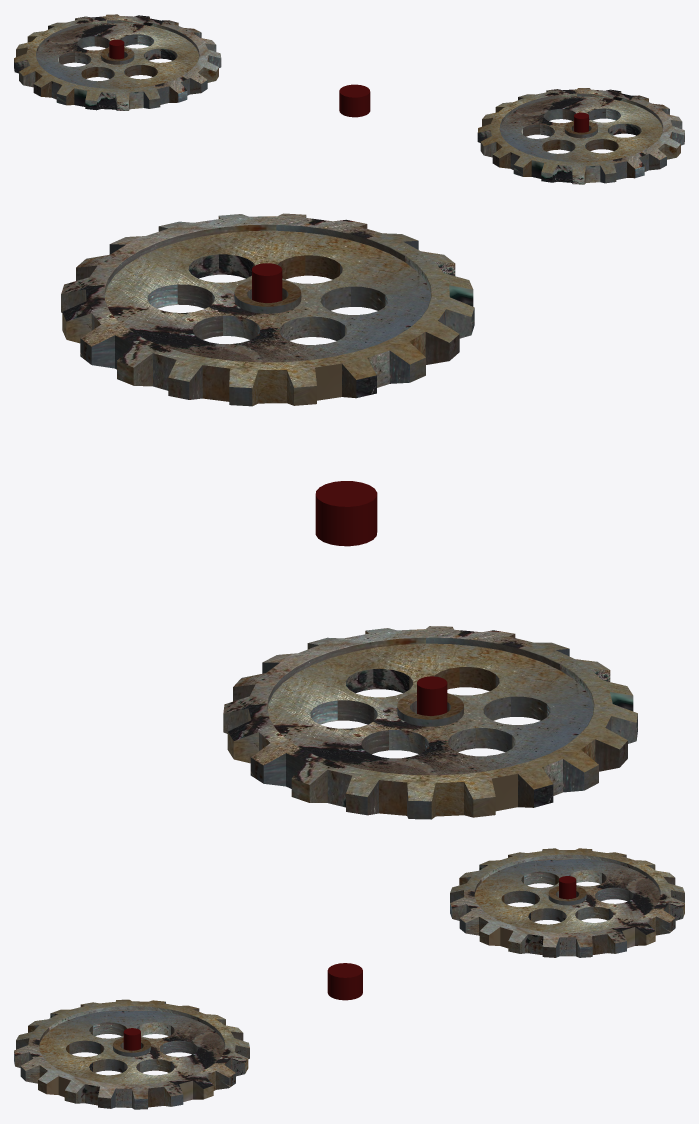
File: behindWall.fbx
The picture shows the model from 3 angles, top to bottom: view 1: azimuth 30°, elevation 25°; view 2: azimuth 150°, elevation 25°; view 3: azimuth 270°, elevation 25°; orthographic projection. The views are drawn at different scales.
Visible parts, largest first — view 1: pasted__pasted__pasted__pCylinder5, pasted__pasted__pCylinder5, pCylinder1, pasted__pasted__pCylinder1, pasted__pCylinder1; view 2: pasted__pasted__pasted__pCylinder5, pasted__pasted__pCylinder5, pCylinder1, pasted__pCylinder1, pasted__pasted__pCylinder1; view 3: pasted__pasted__pCylinder5, pasted__pasted__pasted__pCylinder5, pCylinder1.
Part boxes in pixels (x1,y1,x2,y2): pasted__pasted__pasted__pCylinder5: [14, 14, 221, 110]; pasted__pasted__pCylinder5: [477, 88, 684, 184]; pCylinder1: [339, 84, 370, 117]; pasted__pasted__pCylinder1: [109, 39, 124, 59]; pasted__pCylinder1: [574, 112, 588, 132]; pasted__pasted__pasted__pCylinder5: [223, 626, 637, 819]; pasted__pasted__pCylinder5: [61, 213, 474, 406]; pCylinder1: [315, 481, 377, 546]; pasted__pCylinder1: [252, 263, 282, 302]; pasted__pasted__pCylinder1: [417, 676, 447, 715]; pasted__pasted__pCylinder5: [14, 999, 249, 1109]; pasted__pasted__pasted__pCylinder5: [450, 848, 684, 957]; pCylinder1: [327, 963, 362, 1000].
Size of what is drawn, in the model's own units: 2.54 by 0.1661 by 2.87.
Materials: 4 (1 with a texture image).
